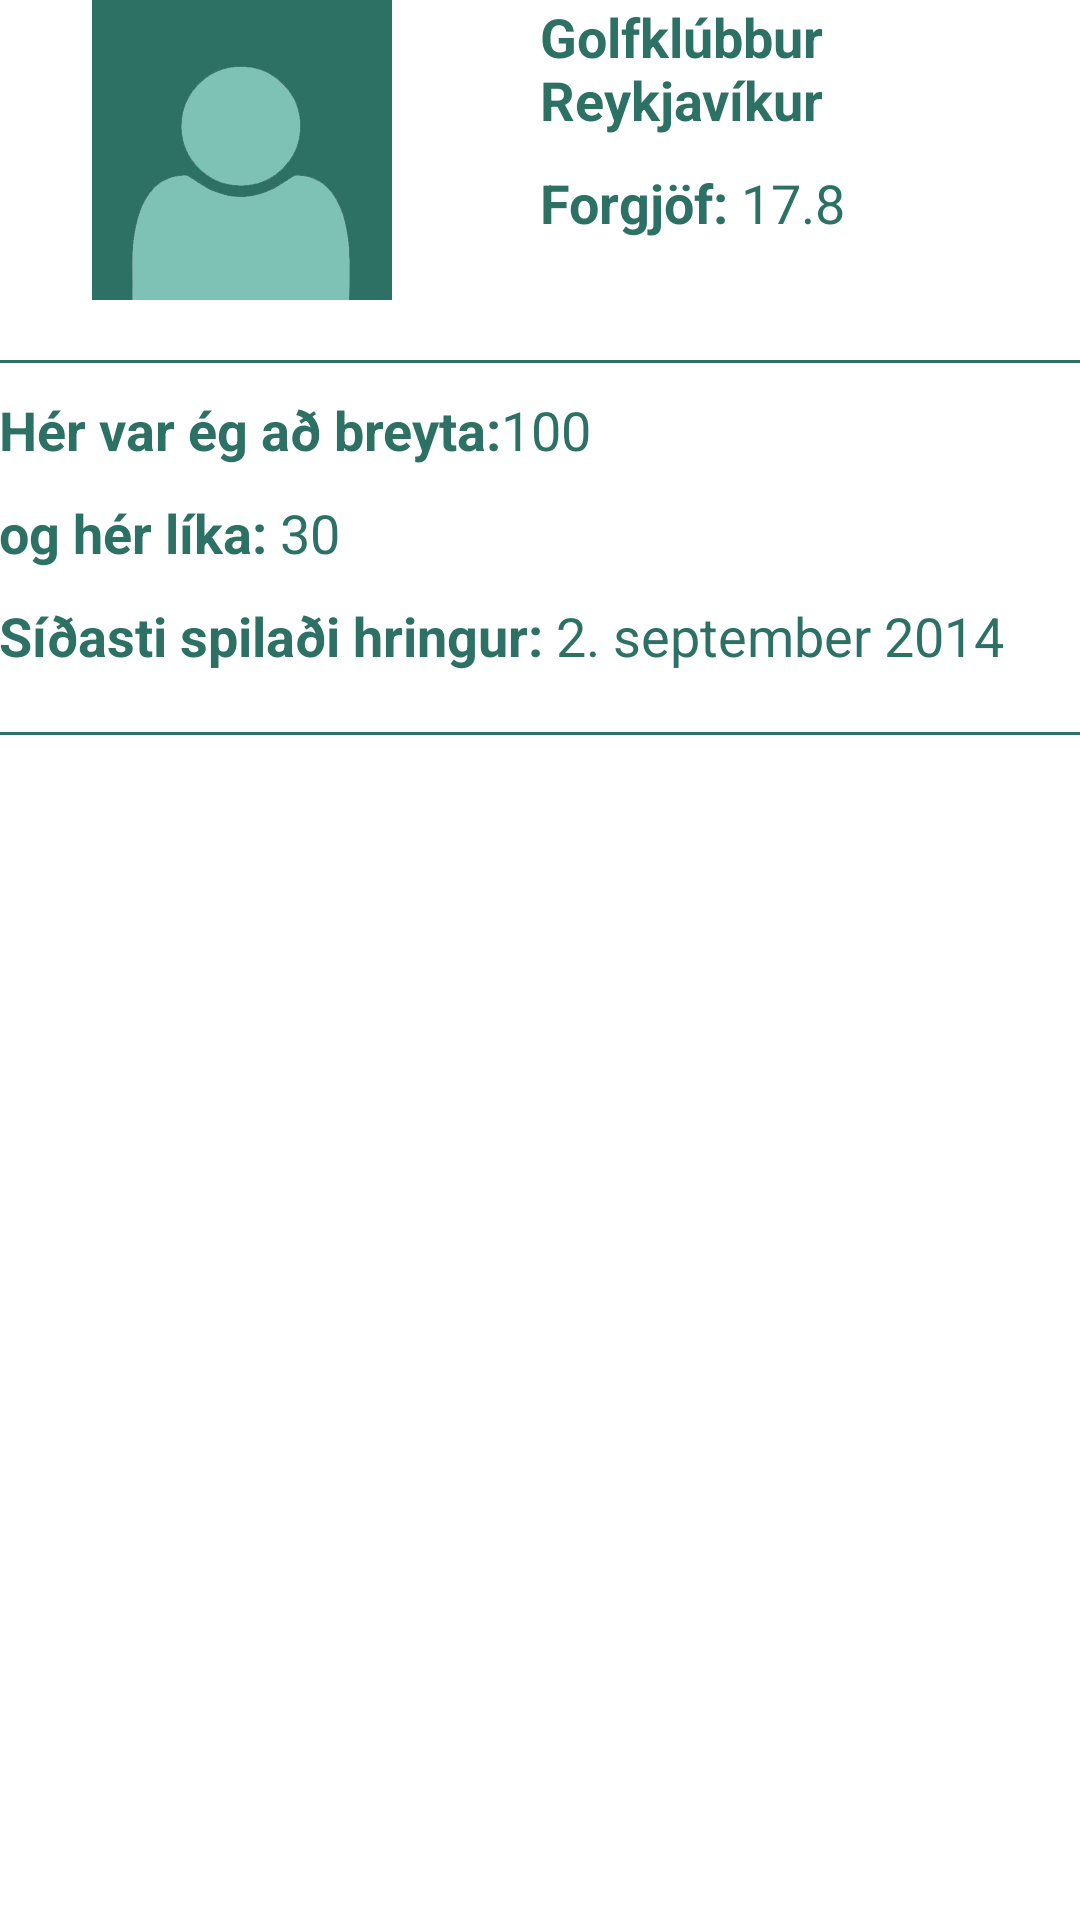

Locate icon controls on the screen. Image size 1080*1920, boxes as BBox(x1, y1, x2, y2).
user: BBox(92, 0, 392, 300)
